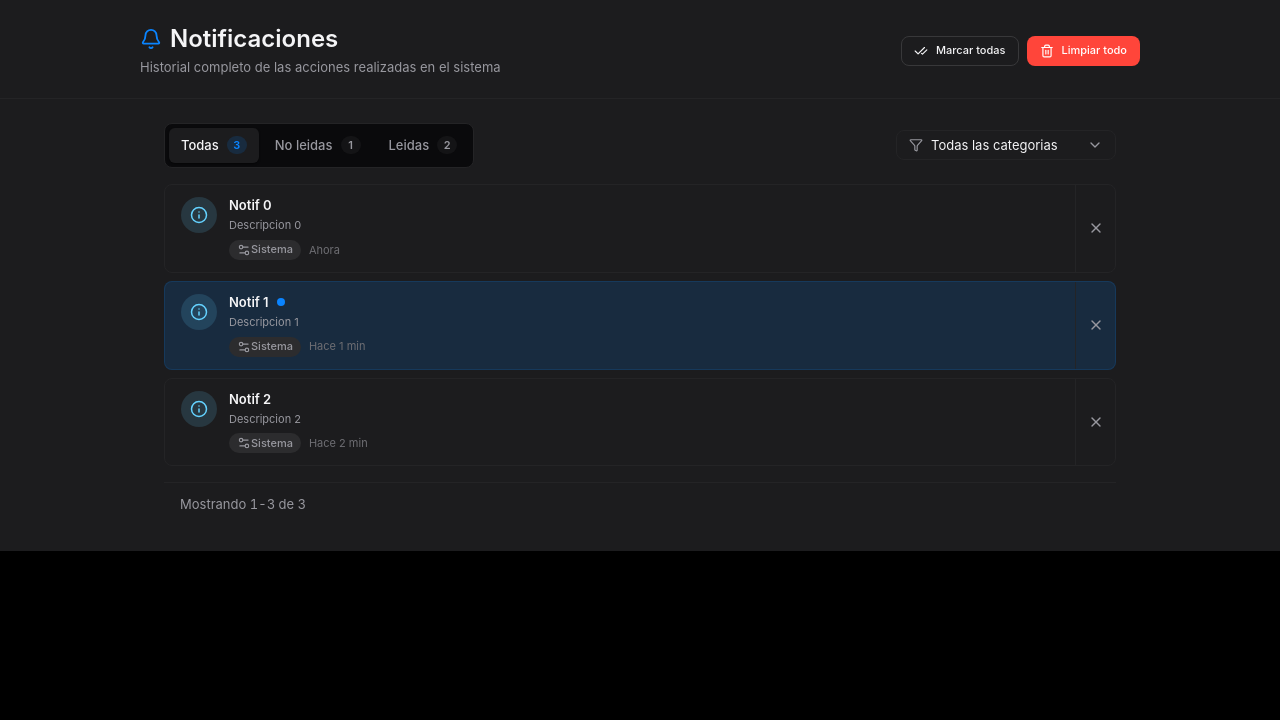
it: Notifications page › opens confirm dialog when clicking Limpiar todo
Click the button "Limpiar todo" at (1083, 51), box [1026,36,1140,66]
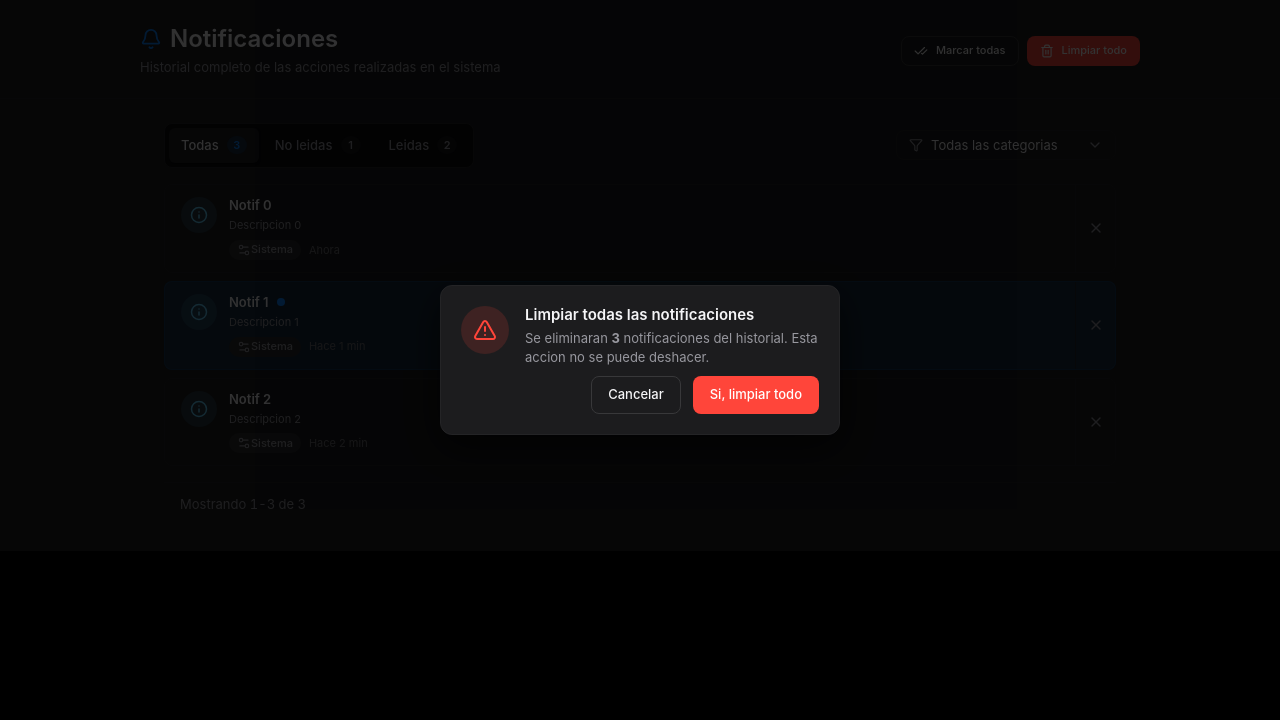
Expected: the heading "Limpiar todas las notificaciones" is shown, [525,305,754,324]
